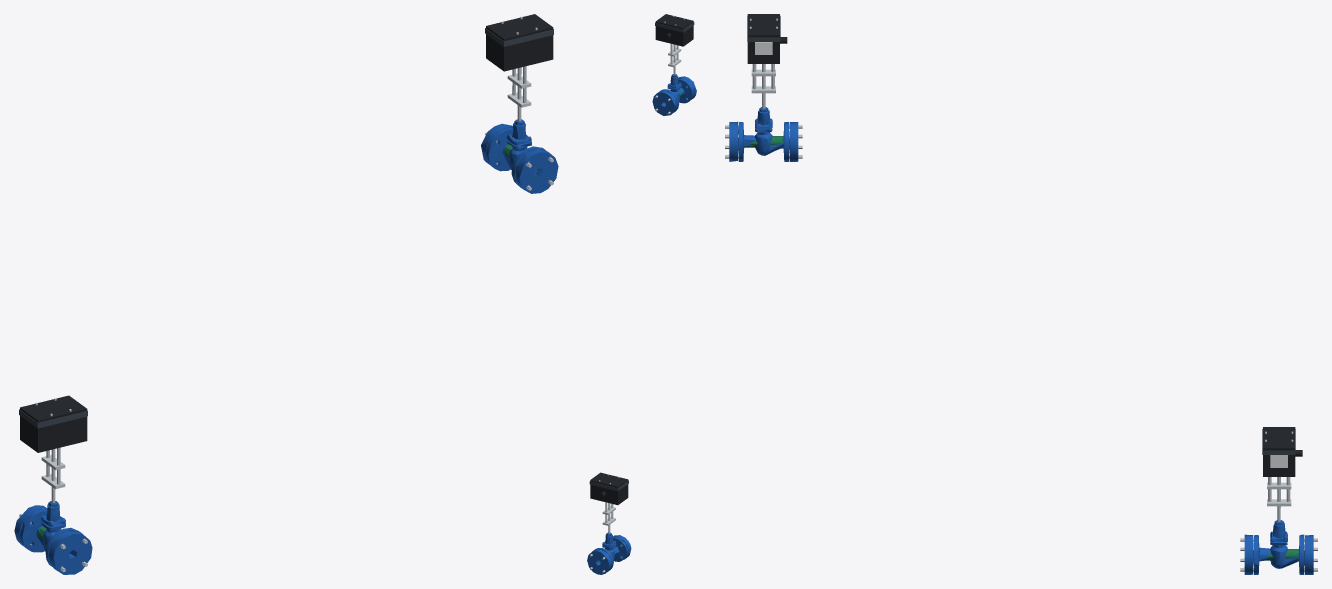
Rendered from modulation.glb.
3 renders of one model, left to right at view 1: azimuth 30°, elevation 25°; view 2: azimuth 150°, elevation 25°; view 3: azimuth 270°, elevation 25°, orthographic. The views are drawn at different scales.
Visible parts, largest first — view 1: mod_direct_drive, mod_eco_drive, mod_eco, mod_direct; view 2: mod_eco_drive, mod_direct_drive, mod_direct, mod_eco; view 3: mod_direct_drive, mod_eco_drive, mod_eco, mod_direct.
Part boxes in pixels (x1,y1,x2,y2): mod_direct_drive: [485, 14, 553, 121]; mod_eco_drive: [19, 395, 87, 502]; mod_eco: [14, 501, 92, 574]; mod_direct: [481, 119, 558, 193]; mod_eco_drive: [589, 472, 628, 533]; mod_direct_drive: [655, 14, 694, 74]; mod_direct: [652, 74, 696, 115]; mod_eco: [587, 532, 631, 574]; mod_direct_drive: [747, 14, 787, 108]; mod_eco_drive: [1262, 427, 1302, 521]; mod_eco: [1240, 520, 1317, 574]; mod_direct: [725, 107, 802, 161].
Size of the model in its own units: 0.806 by 2.4 by 2.06.
